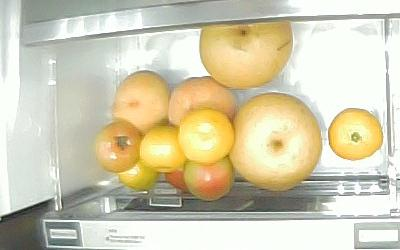peach: (111, 70, 170, 134), (167, 76, 235, 128)
pear: (228, 92, 322, 189), (199, 21, 293, 88)
tangerine: (177, 108, 235, 164), (328, 107, 383, 160), (140, 124, 183, 172), (118, 161, 157, 191)
tomato: (183, 156, 234, 202), (94, 122, 140, 172)
